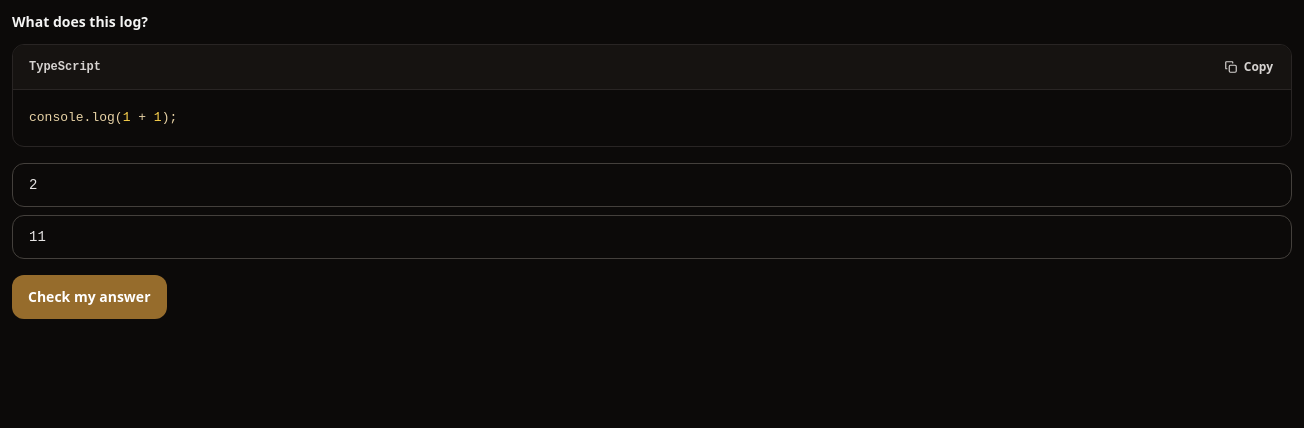
Test: PredictOutputComponent › says Not quite for a wrong answer, still explains, and marks the right option
This screenshot has width=1304, height=428.
Step 1. Click the radio button with test id "predict-option-b" → (37, 237), box [12,215,1292,259]
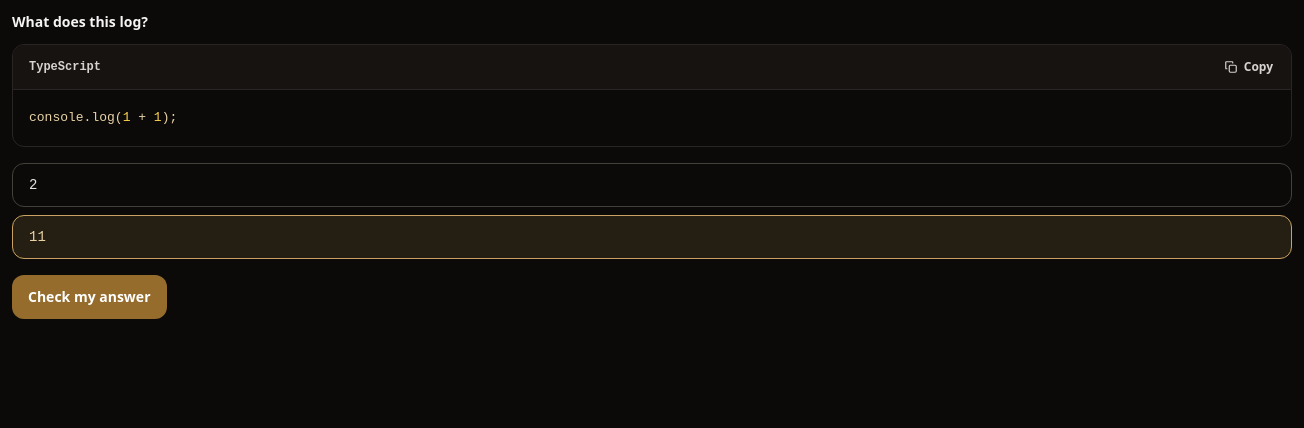
Step 2. Click the button "Check my answer" → (89, 297), box [12,275,166,319]
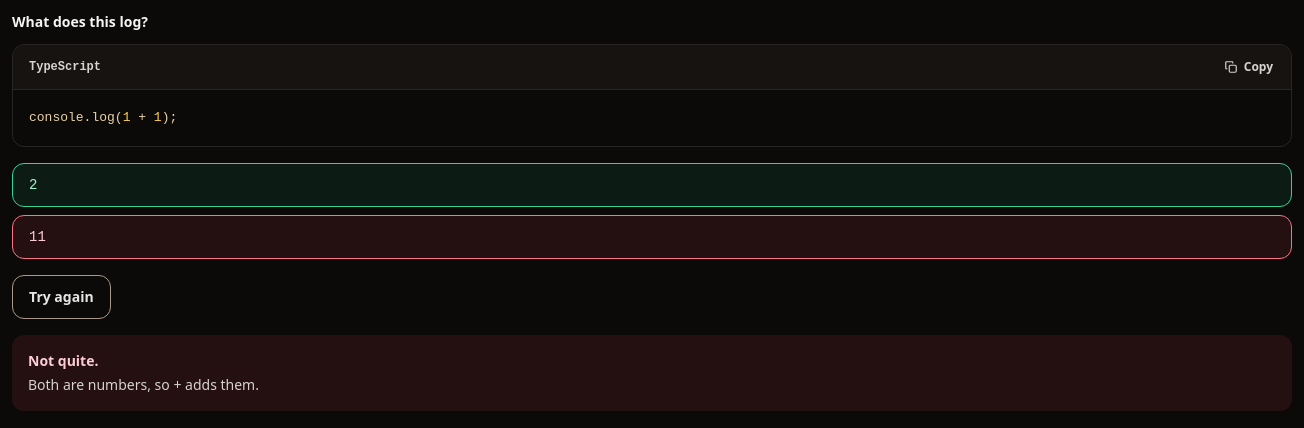
Expected: the message with test id "predict-result" shows "Not quite.", [28,351,98,370]
Expected: the message with test id "predict-result" shows "Both are numbers", [28,375,259,394]
